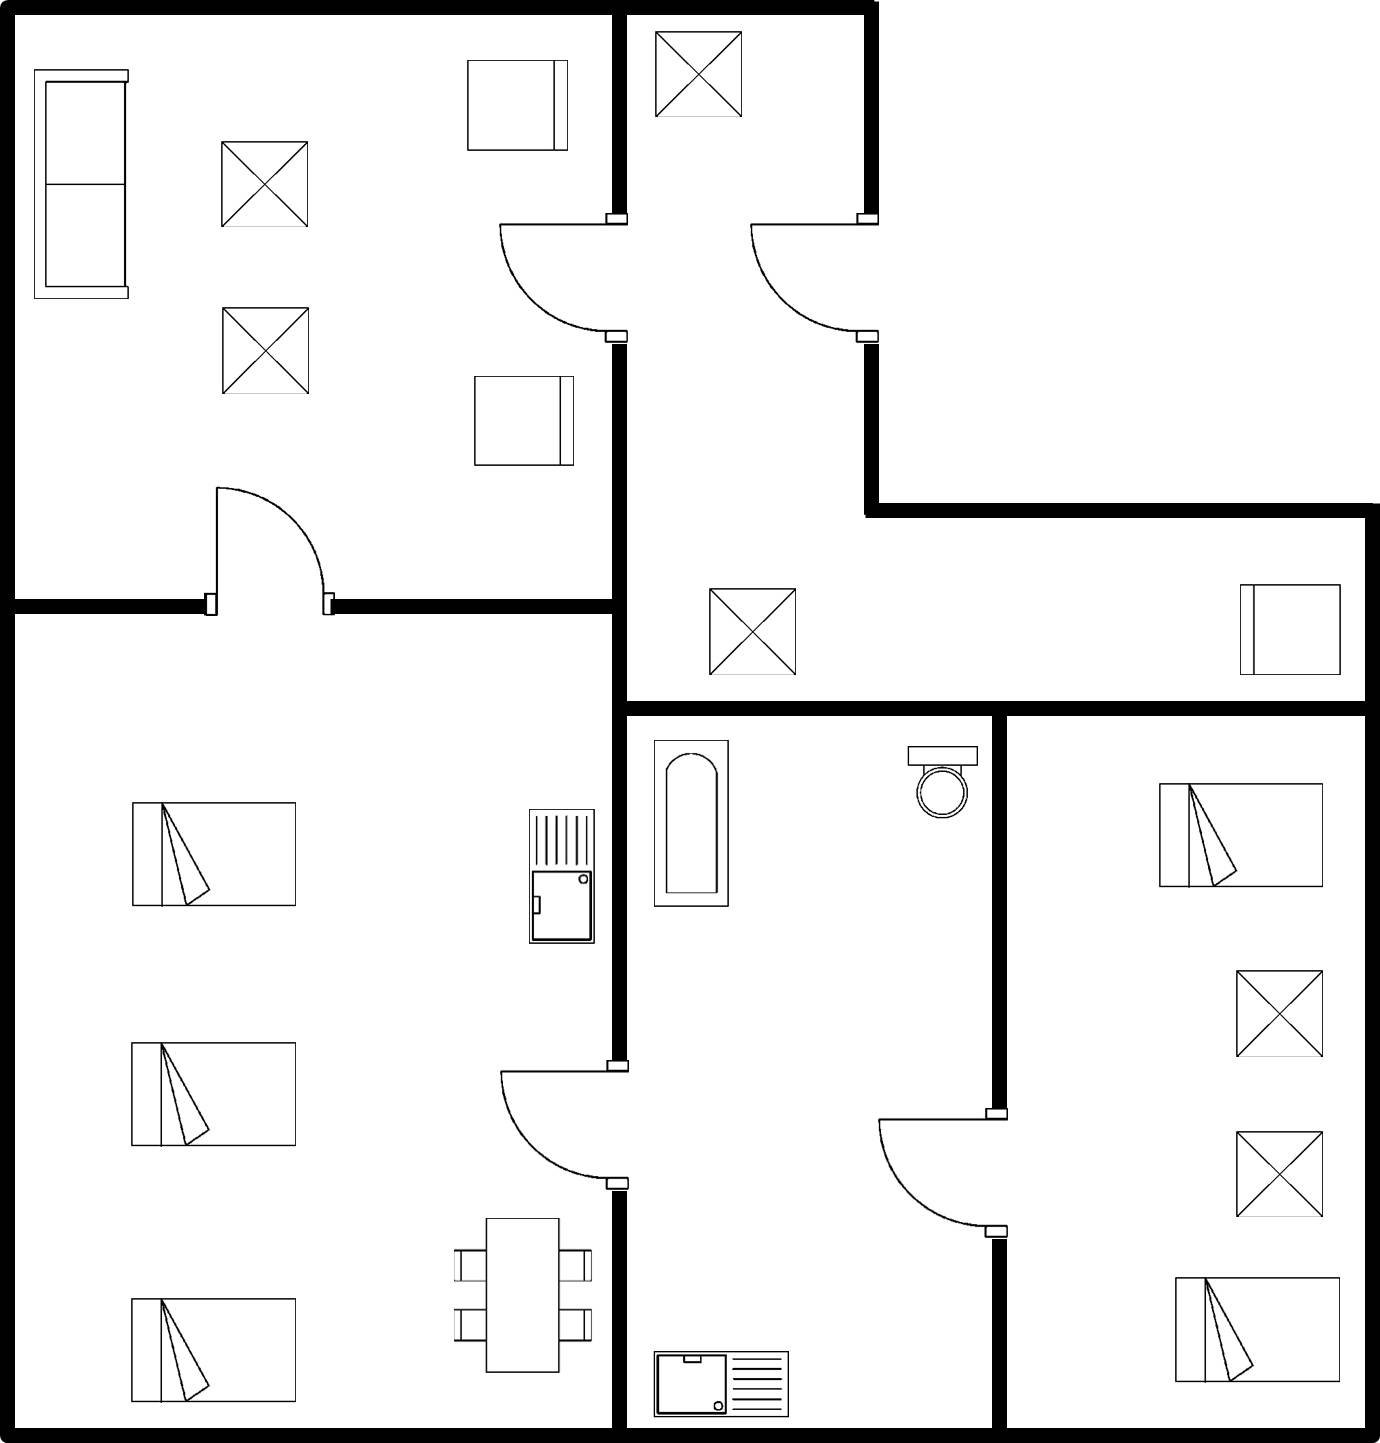bed: (122, 1029, 308, 1159), (1148, 770, 1333, 897), (119, 794, 308, 915), (121, 1290, 307, 1412)
coffee_table: (695, 580, 808, 687), (1225, 959, 1338, 1064), (209, 297, 317, 404), (1225, 1121, 1332, 1226), (212, 132, 318, 236), (645, 22, 749, 128)
dining_table: (438, 1209, 601, 1384)
large_sink: (895, 736, 986, 825)
large_sofa: (25, 59, 138, 305)
sink: (643, 1340, 800, 1428), (515, 801, 604, 955)
small_sofa: (1222, 574, 1350, 687), (459, 52, 576, 163), (462, 369, 584, 476)
tub: (640, 731, 739, 918)
